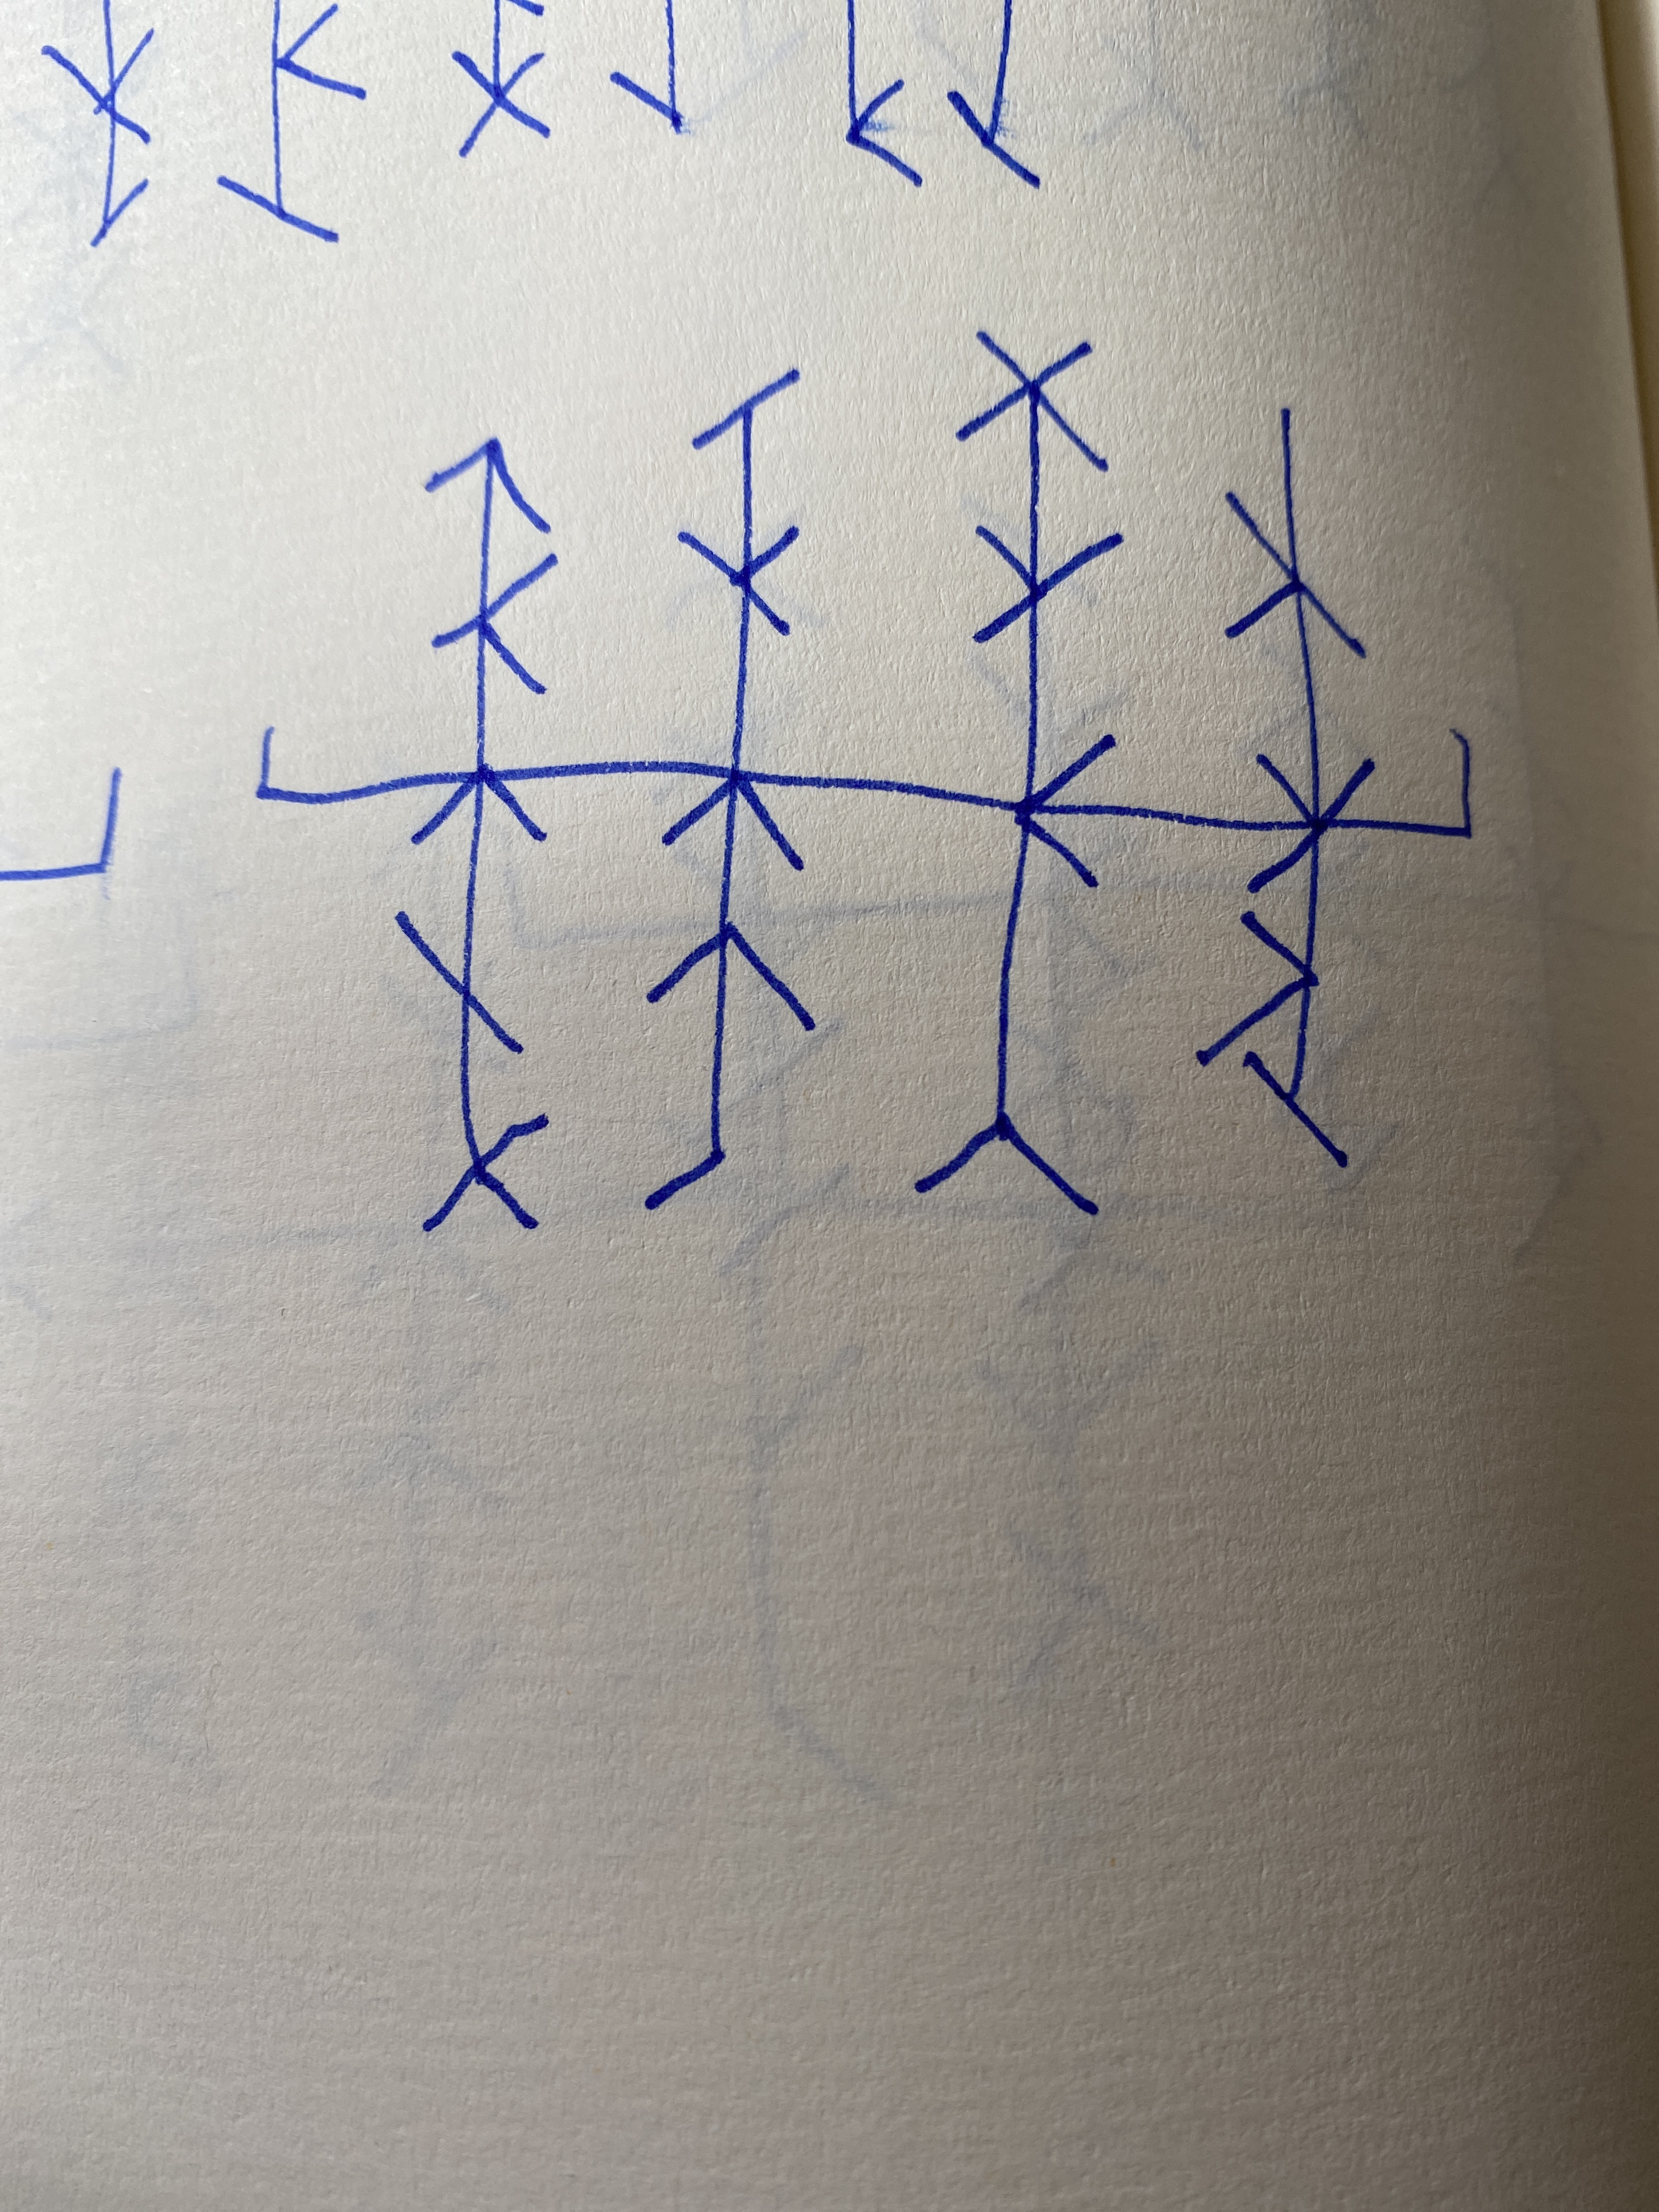Bar: (911, 331, 1124, 1217), (641, 368, 819, 1207), (1195, 406, 1377, 1170), (394, 437, 558, 1228)
Barcode: (258, 329, 1476, 1230)
End: (1377, 730, 1473, 840)
Start: (258, 723, 441, 808)
